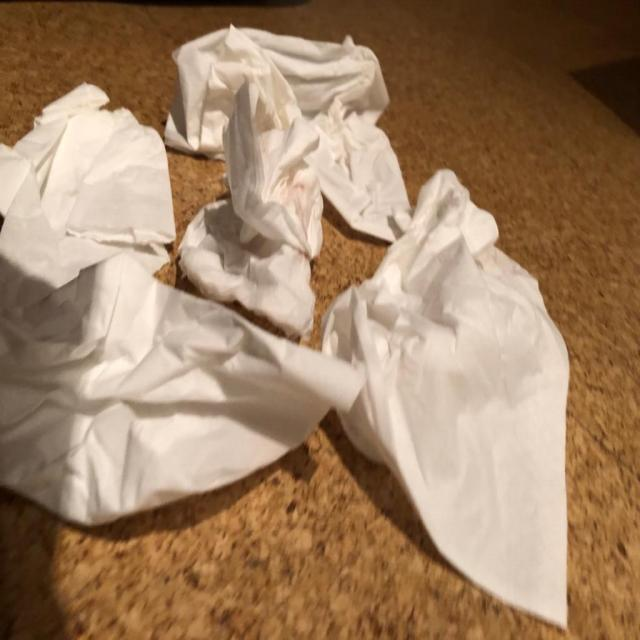kitchen paper: (0, 85, 369, 544), (314, 165, 579, 635), (160, 24, 414, 240), (177, 65, 318, 331)
